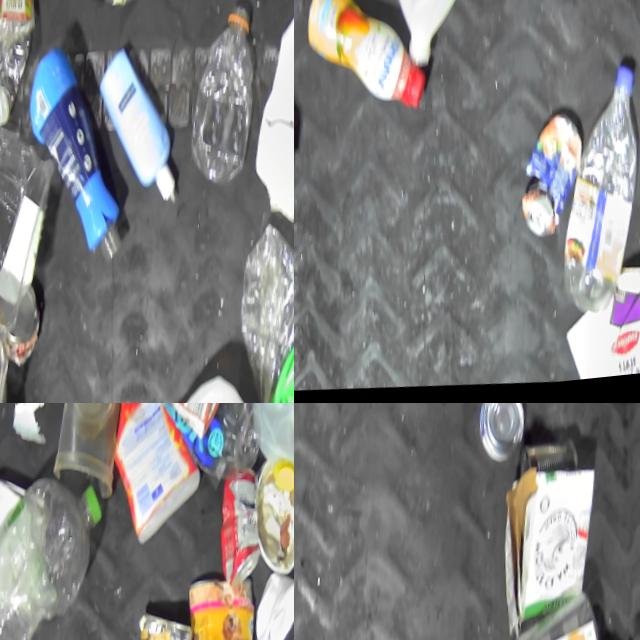can: (509, 119, 580, 252), (210, 467, 264, 600), (179, 577, 256, 640), (467, 403, 531, 476), (0, 290, 40, 372)
milk_jug: (240, 0, 294, 239), (355, 0, 479, 57), (233, 403, 294, 513)
non_white_jug: (96, 403, 209, 546)
plastic_bottle: (544, 74, 640, 329), (0, 491, 104, 640), (183, 19, 259, 195), (0, 0, 40, 130), (455, 610, 600, 640), (86, 0, 164, 16)
